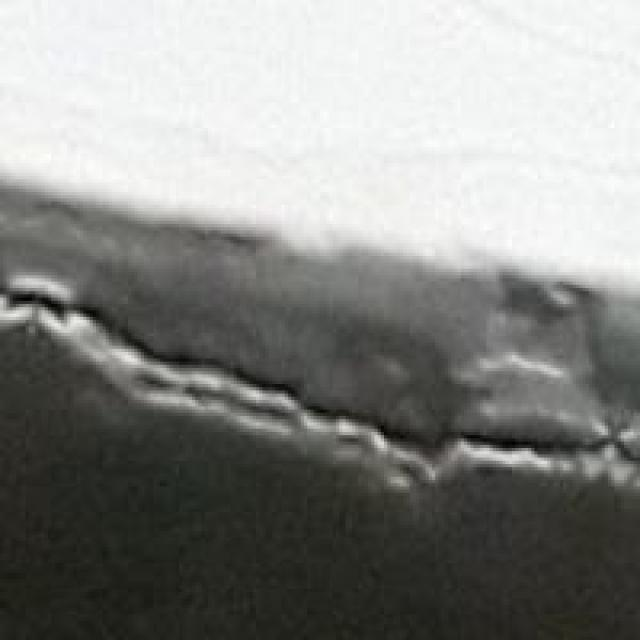crack: (0, 230, 637, 612)
